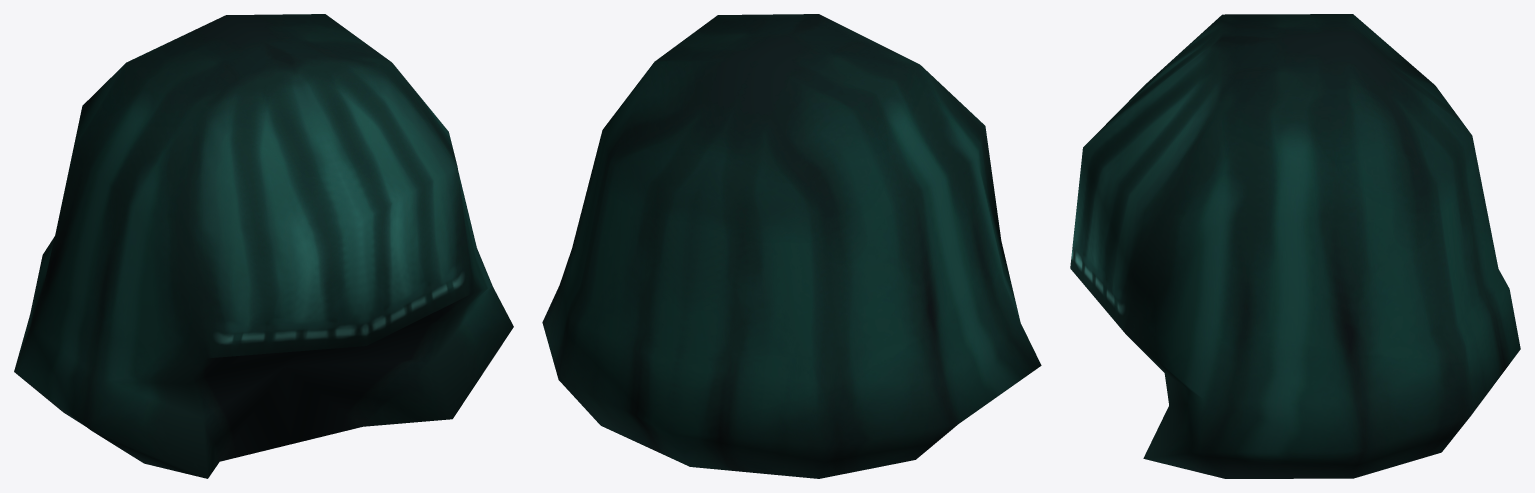
Rendered from character_Head12.FBX.
The picture shows the model from 3 angles, left to right: view 1: azimuth 30°, elevation 25°; view 2: azimuth 150°, elevation 25°; view 3: azimuth 270°, elevation 25°; orthographic projection.
Parts seen in each view (by area): view 1: Sphere126; view 2: Sphere126; view 3: Sphere126.
Boxes of the visible parts, x1,y1,x2,y2 form: Sphere126: (14, 14, 513, 478); Sphere126: (542, 14, 1041, 478); Sphere126: (1070, 14, 1520, 478).
Size of the model in its own units: 45.47 by 40.57 by 41.71.
